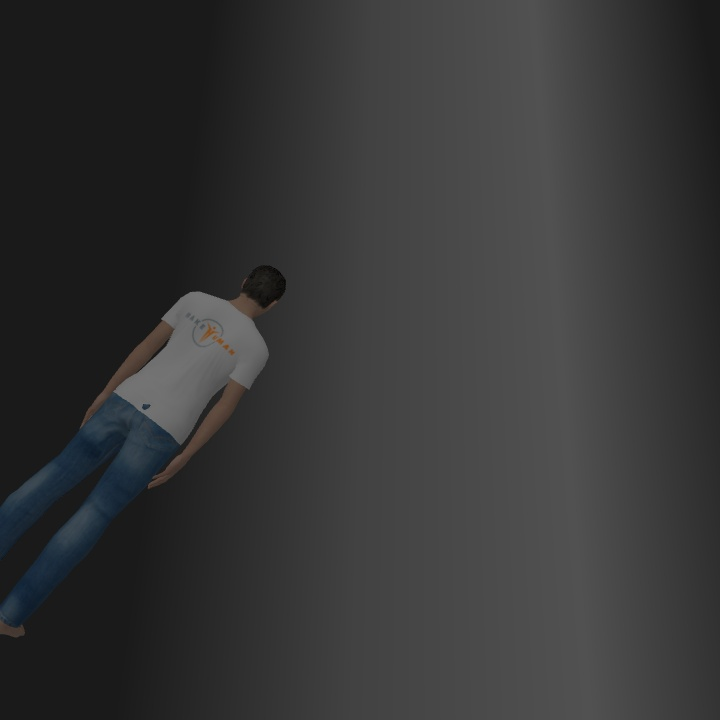victim: (1, 264, 287, 636)
